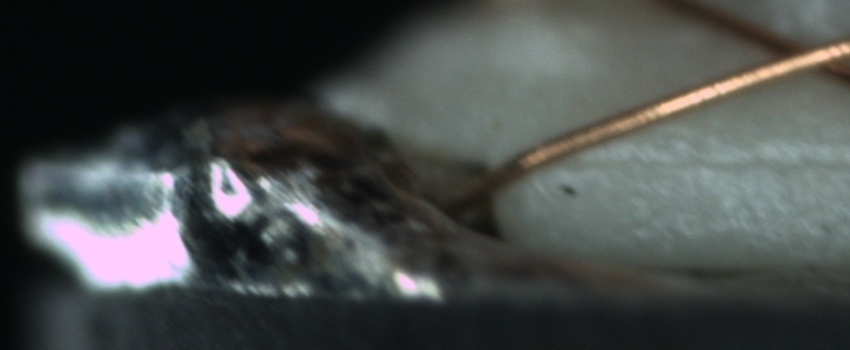CL: (747, 23, 848, 88)
DL: (573, 130, 850, 189)
